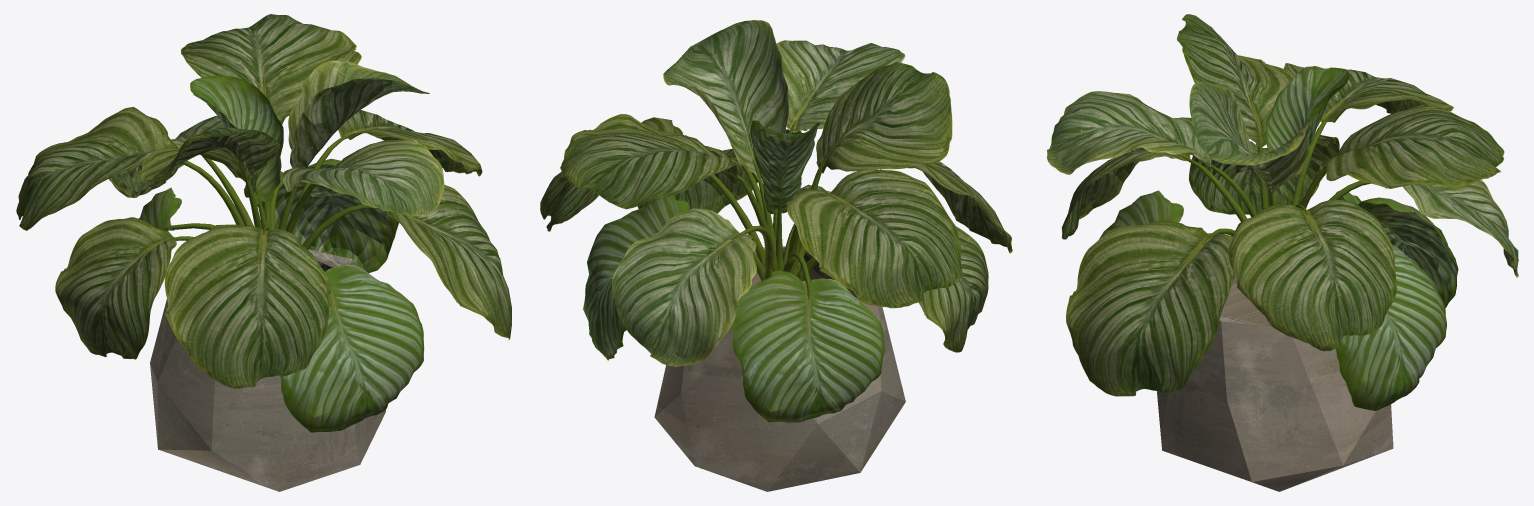
File: 20260613_interior_plant_2.glb
3 renders of one model, left to right at view 1: azimuth 30°, elevation 25°; view 2: azimuth 150°, elevation 25°; view 3: azimuth 270°, elevation 25°, orthographic. The views are drawn at different scales.
Parts seen in each view (by area): view 1: Indoor Table Plant, Indoor Table Plant.001; view 2: Indoor Table Plant, Indoor Table Plant.001; view 3: Indoor Table Plant, Indoor Table Plant.001.
Boxes of the visible parts, left/top/right/bottom form: Indoor Table Plant: left=16, top=14, right=511, bottom=432; Indoor Table Plant.001: left=150, top=249, right=385, bottom=491; Indoor Table Plant: left=540, top=20, right=1012, bottom=422; Indoor Table Plant.001: left=654, top=246, right=905, bottom=491; Indoor Table Plant: left=1047, top=14, right=1518, bottom=410; Indoor Table Plant.001: left=1157, top=275, right=1393, bottom=491.
Size of the model in its own units: 0.7233 by 0.6148 by 0.6742.
2 materials, 2 textured.
